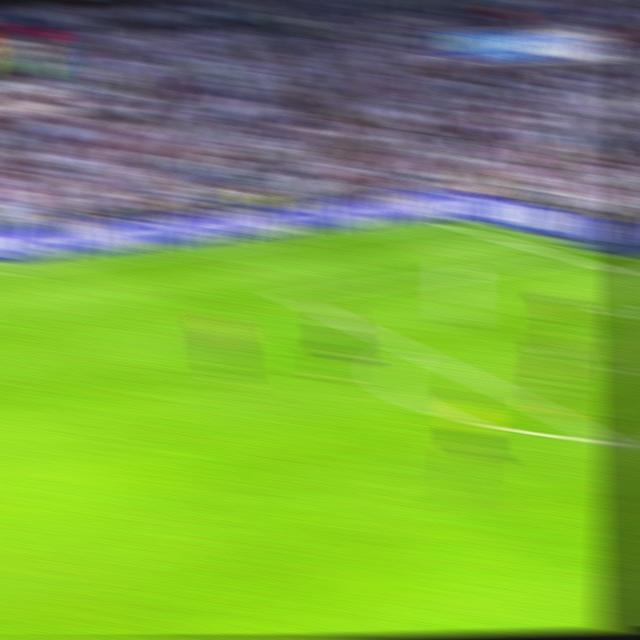bigarea_bottom_outter: (395, 338, 423, 358)
bigarea_top_inner: (278, 287, 305, 305)
corner: (431, 216, 461, 229)
top_arc_area_intersection: (395, 338, 423, 358)
